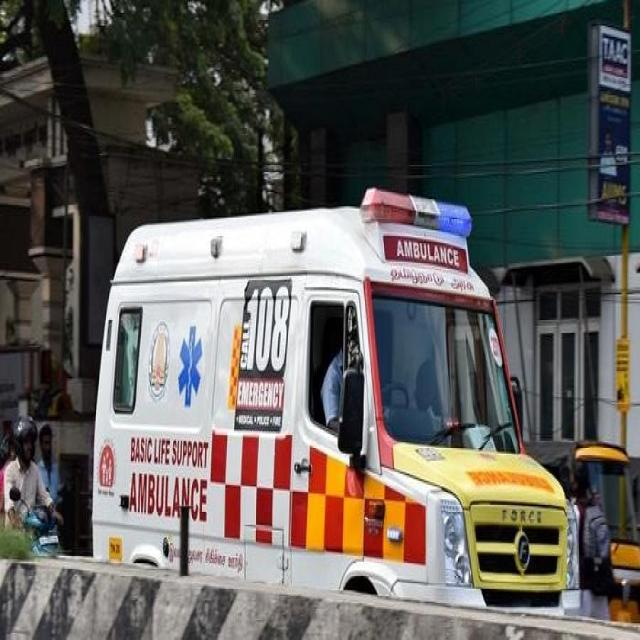ambulance: (92, 192, 581, 617)
